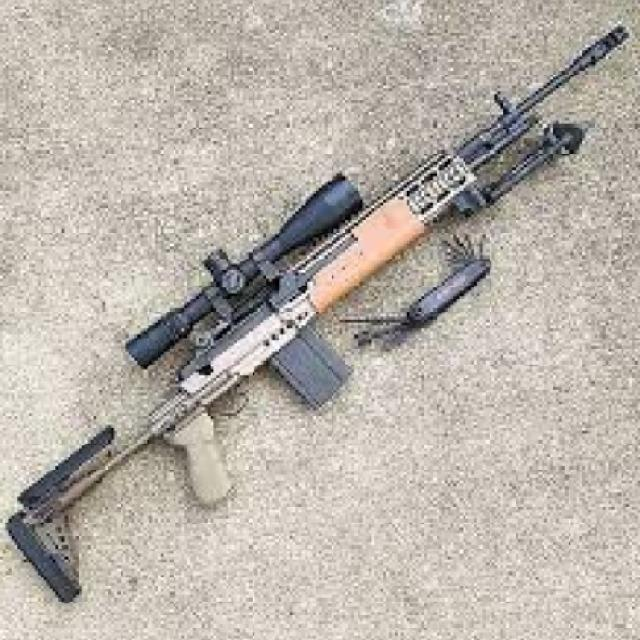Gun: (6, 7, 640, 596)
